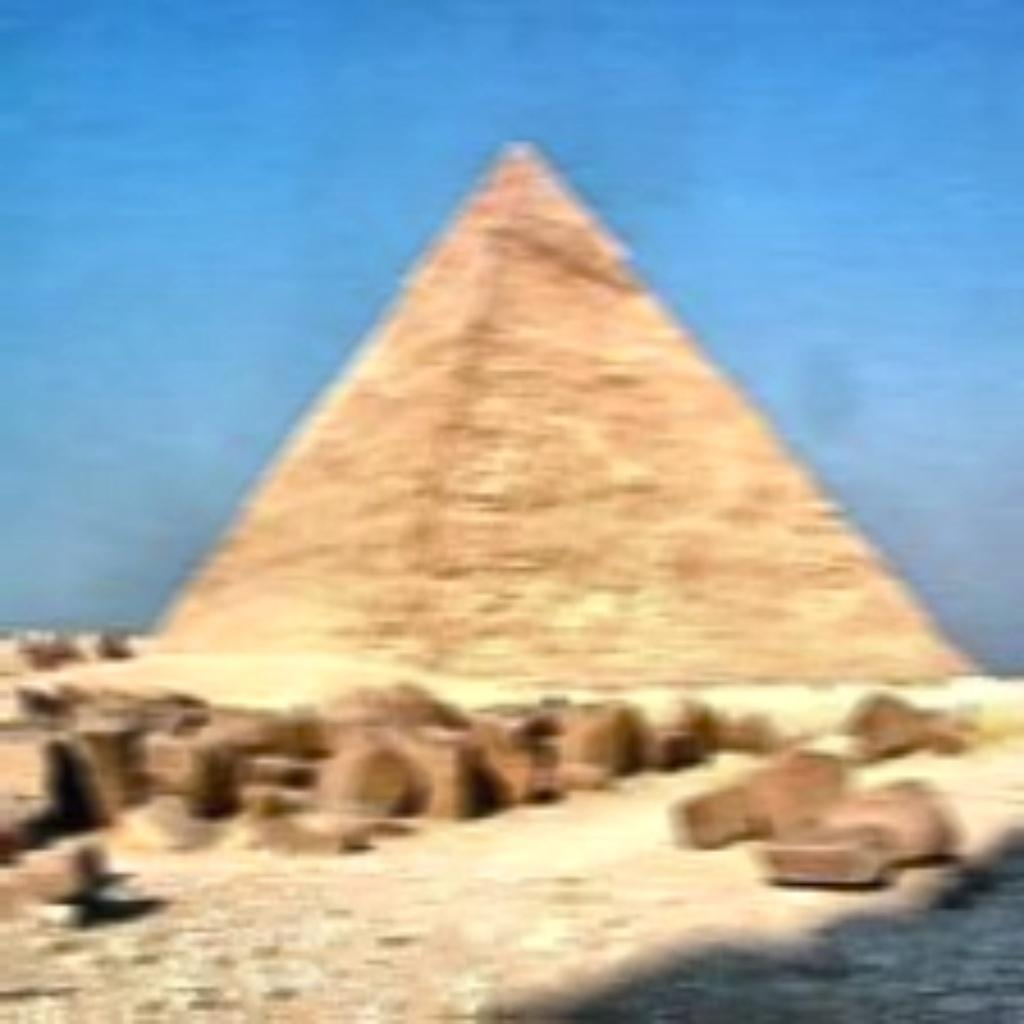Great Pyramids of Giza: (137, 137, 969, 695)
